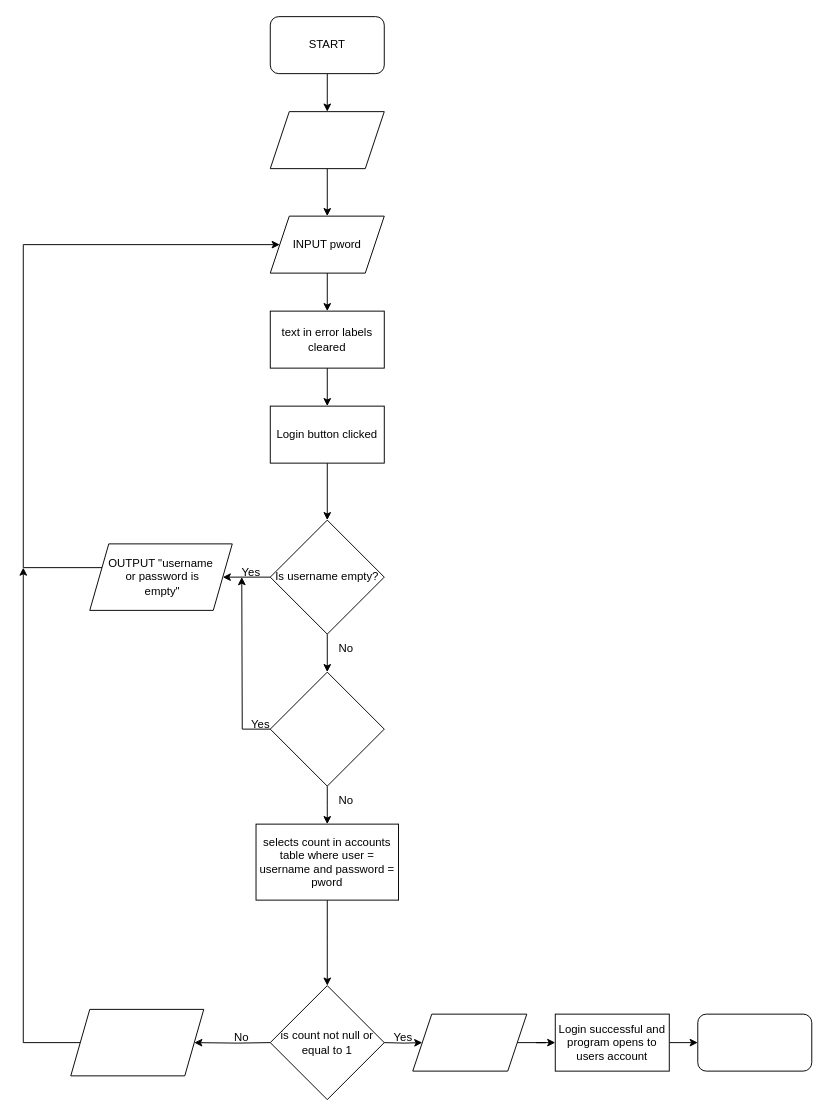
Some shapes in this 828 by 1116 pixel diagram are drawn without their labels. Each missing label, with the centre of its shape:
END: point (754, 1042)
INPUT username: point (326, 140)
Is pword empty?: point (326, 728)
OUTPUT "login successful": point (469, 1042)
OUTPUT "username/password incorrect": point (137, 1042)
